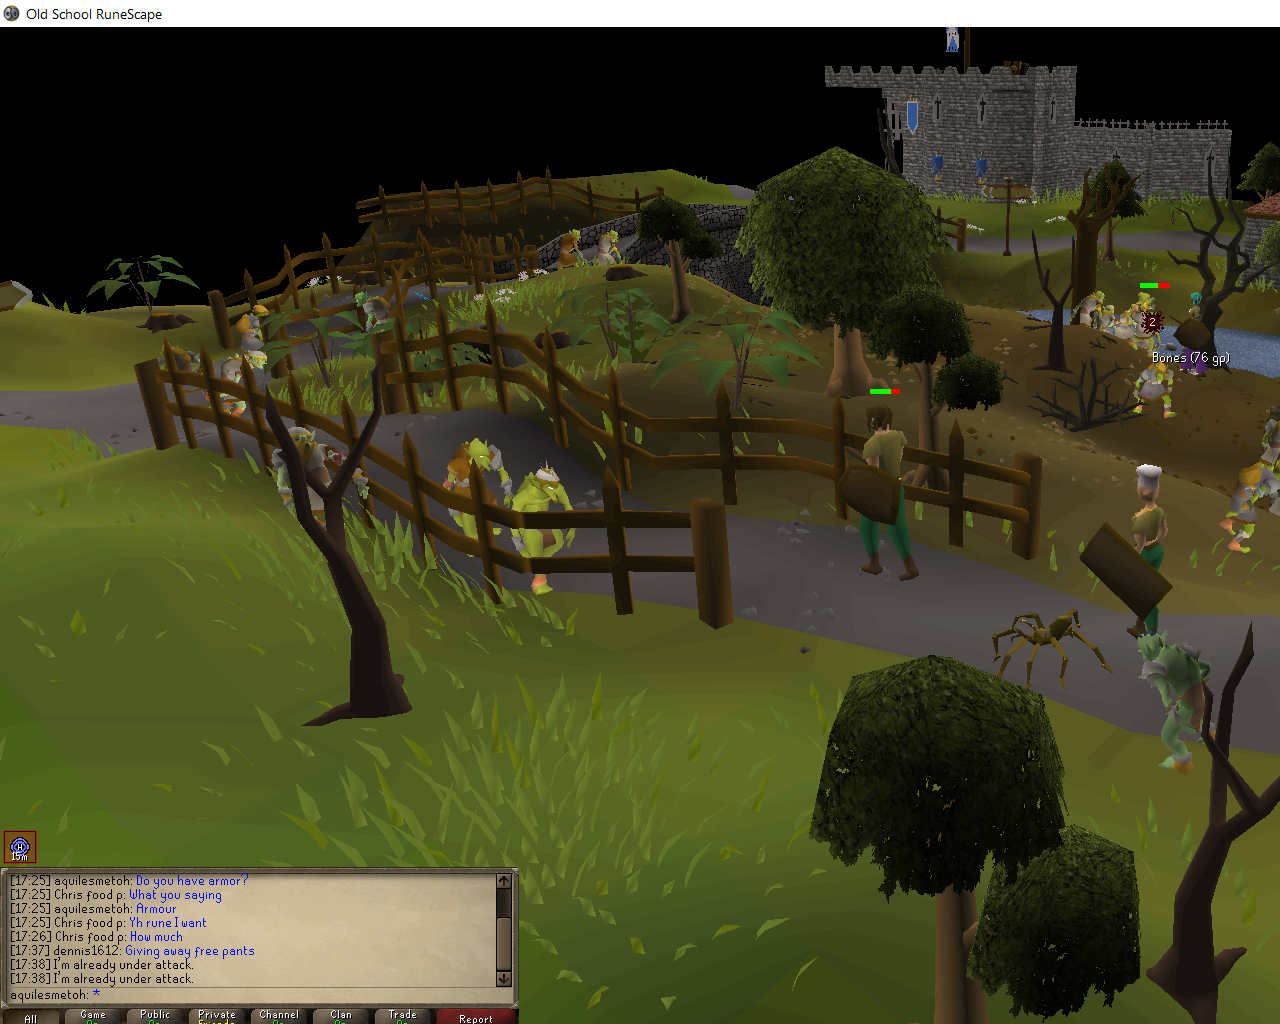Goblin: (1132, 629, 1230, 775), (261, 422, 375, 539), (436, 434, 515, 561), (508, 467, 579, 597), (1217, 463, 1280, 558), (215, 349, 269, 418), (352, 290, 400, 350), (1123, 292, 1166, 356), (1132, 360, 1177, 422), (233, 301, 271, 371), (1260, 408, 1280, 503), (553, 226, 588, 274), (1073, 287, 1104, 335), (1109, 308, 1141, 353), (594, 229, 623, 271), (1099, 303, 1117, 338)
